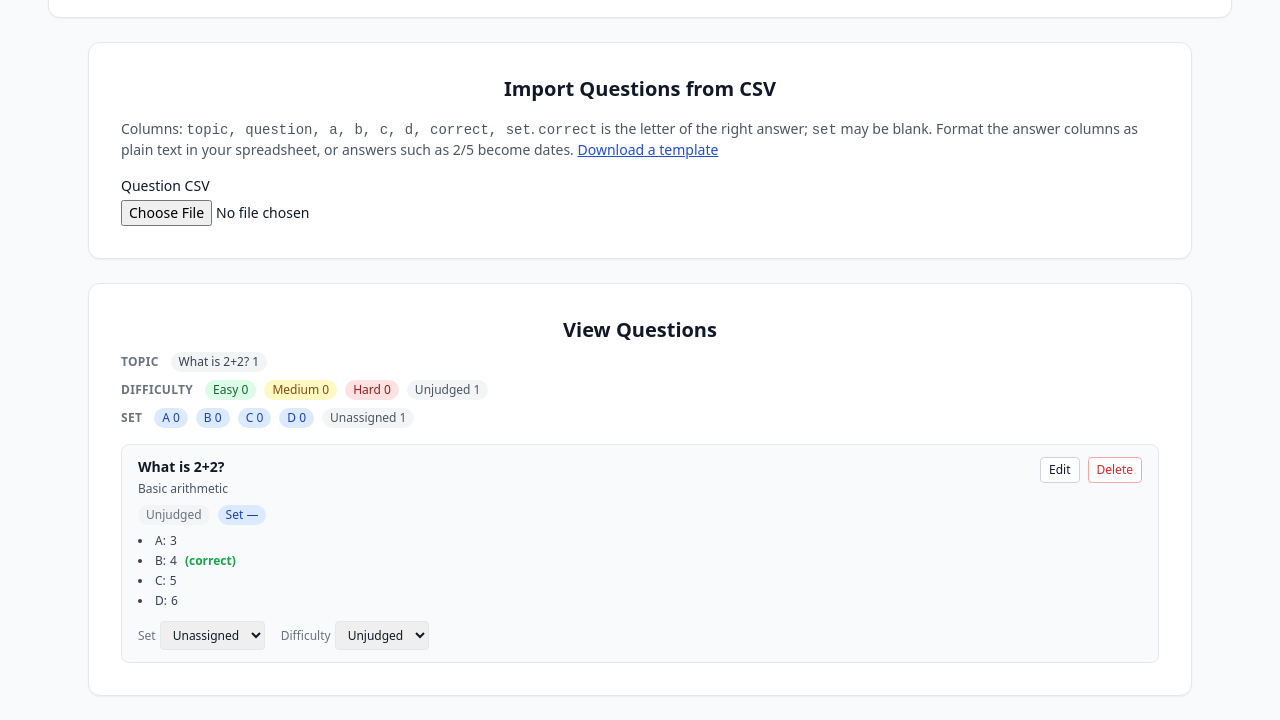
Test: QuestionPanelPage › edits a question and saves the changes
(page scrolled)
expect the text "What is 2+2?" is shown: met, box [138,457,224,476]
Click the button "Edit".
click(1060, 470)  # box [1040,457,1080,483]
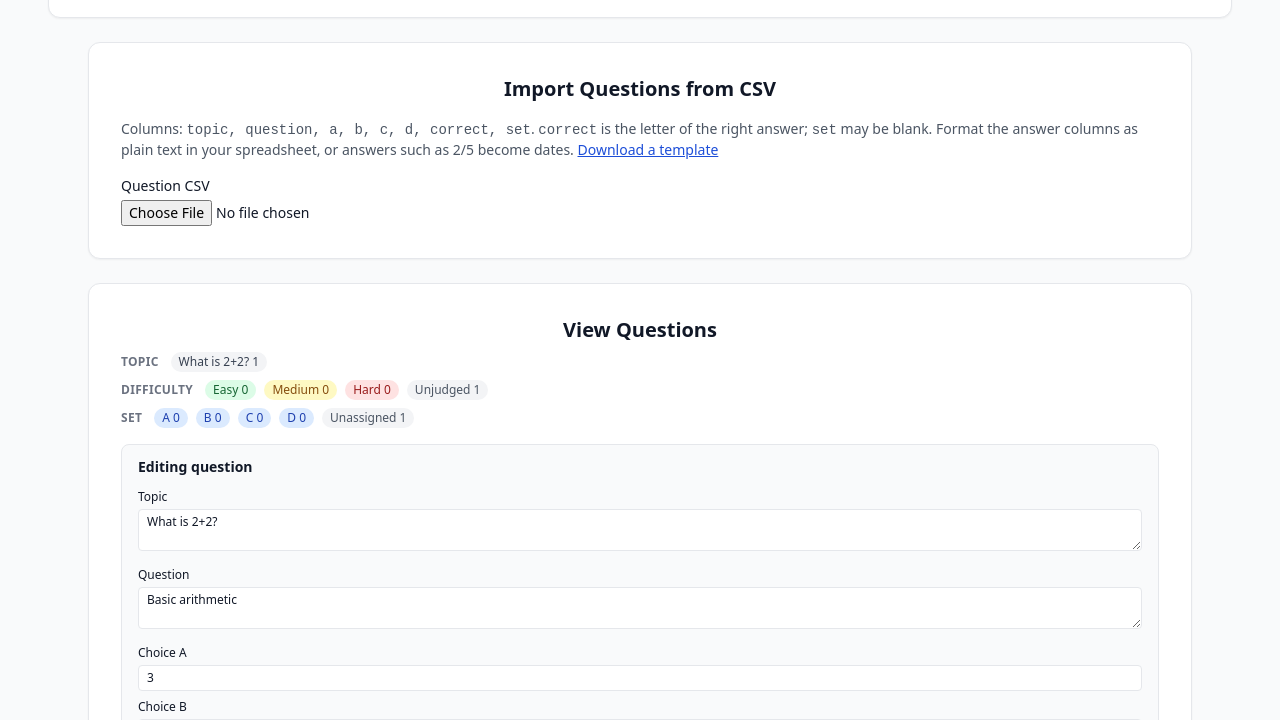
expect the text "Editing question" is shown: met, box [138,457,252,477]
Replace the text in the 1st text box with "Updated stem" at (640, 530), box [138,509,1142,551]
(page scrolled)
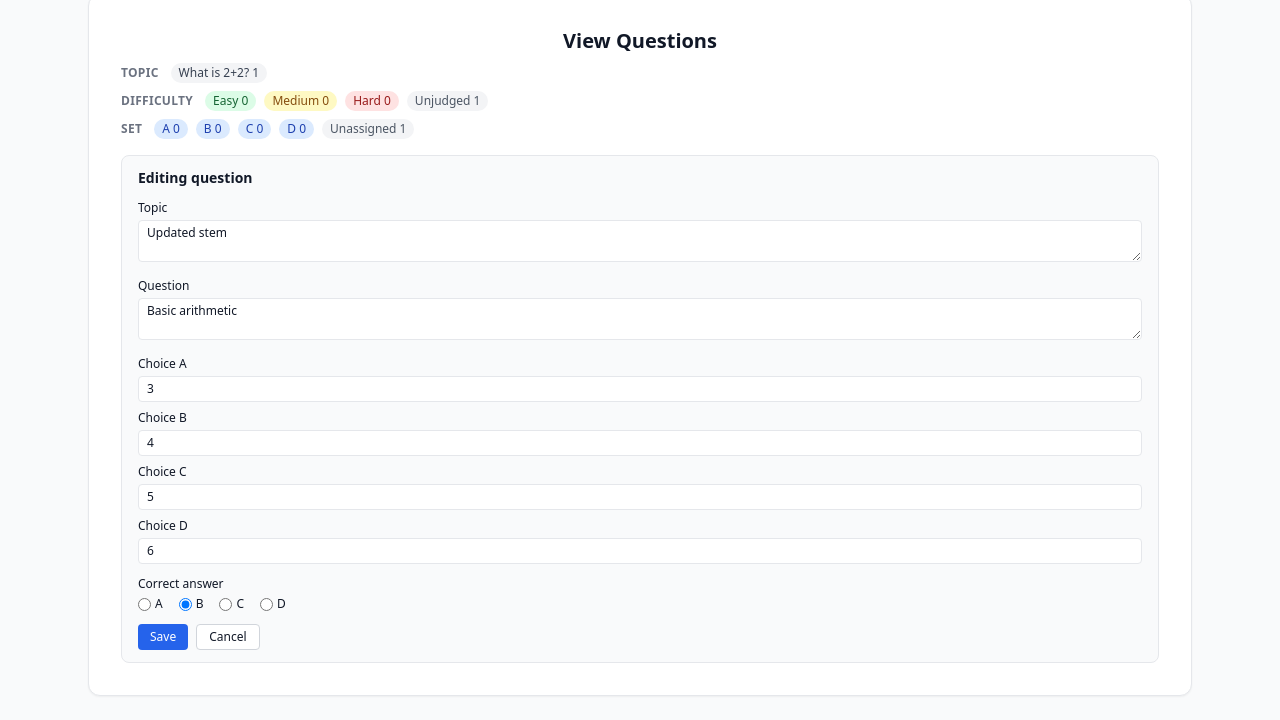
Click the radio button labelled "C".
click(226, 604)  # box [220,598,232,610]
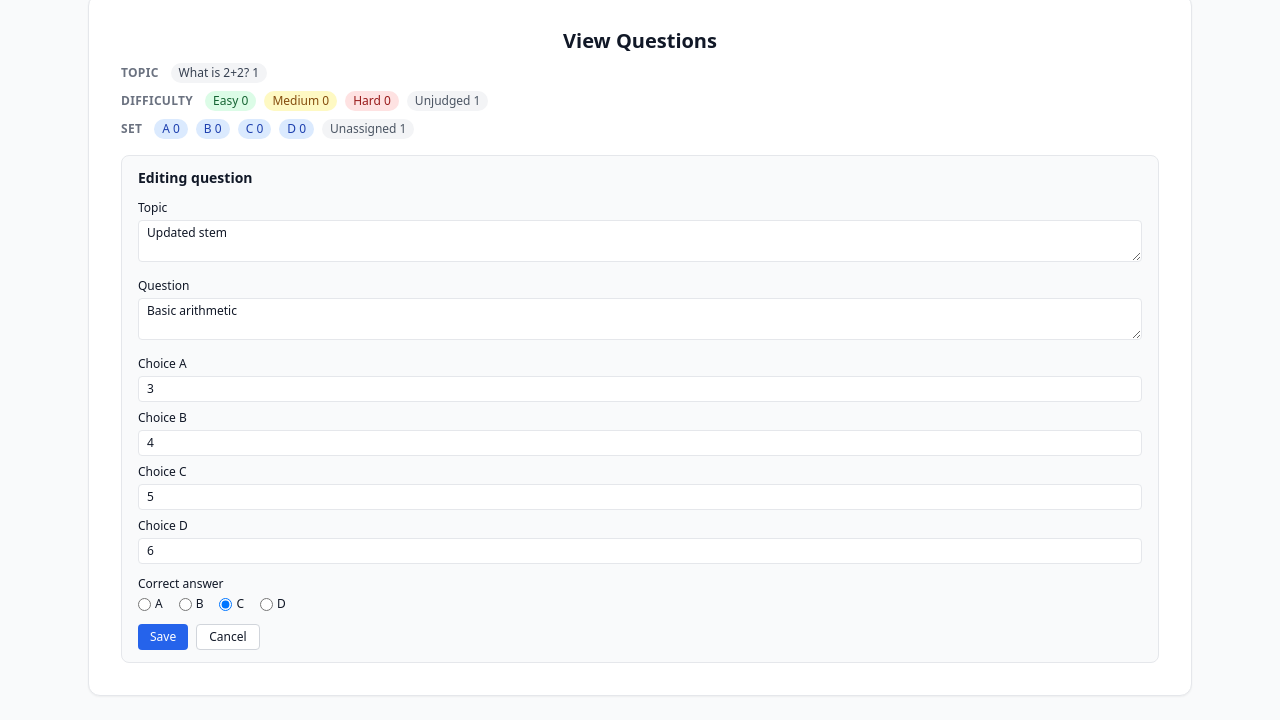
Click the button "Save".
click(163, 637)  # box [138,624,188,650]
(page scrolled)
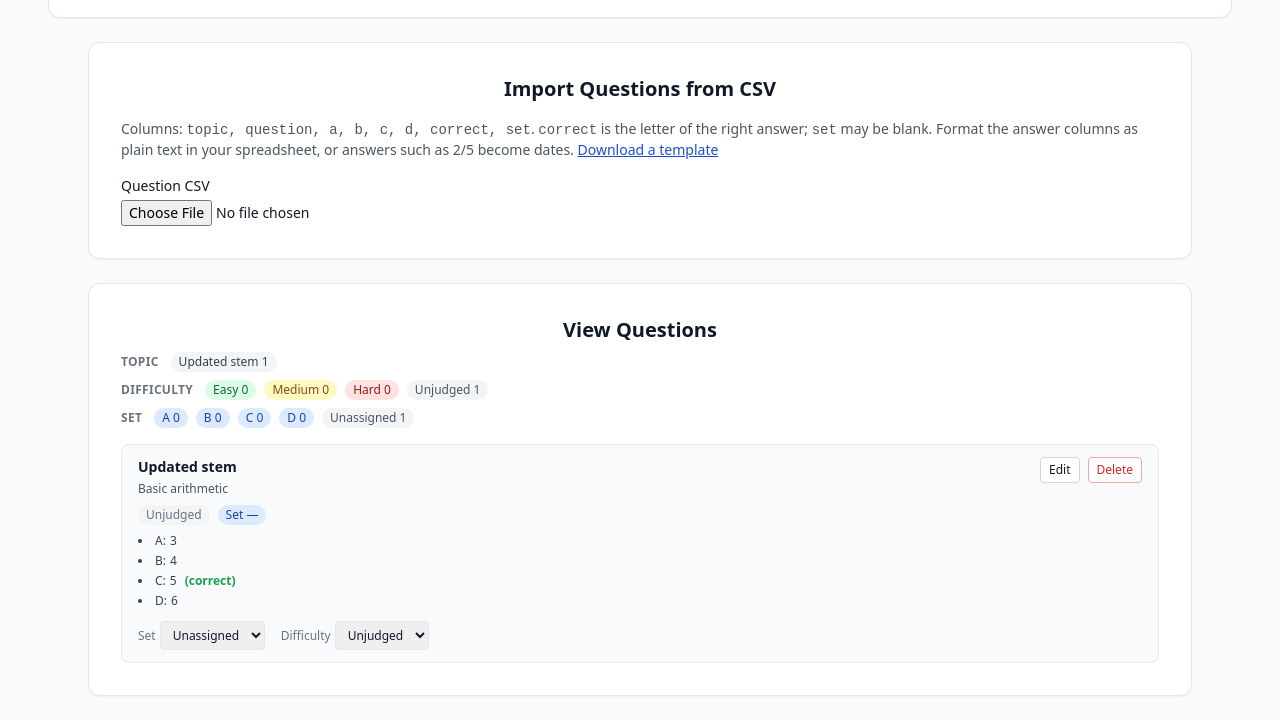
expect the text "Updated stem" is shown: met, box [138,457,237,476]
expect the text "Editing question" is gone: met
